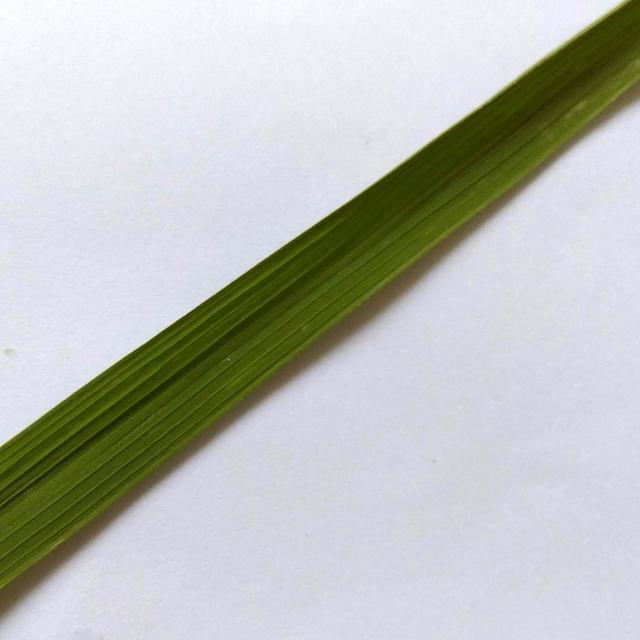healthy: (0, 1, 640, 604)
